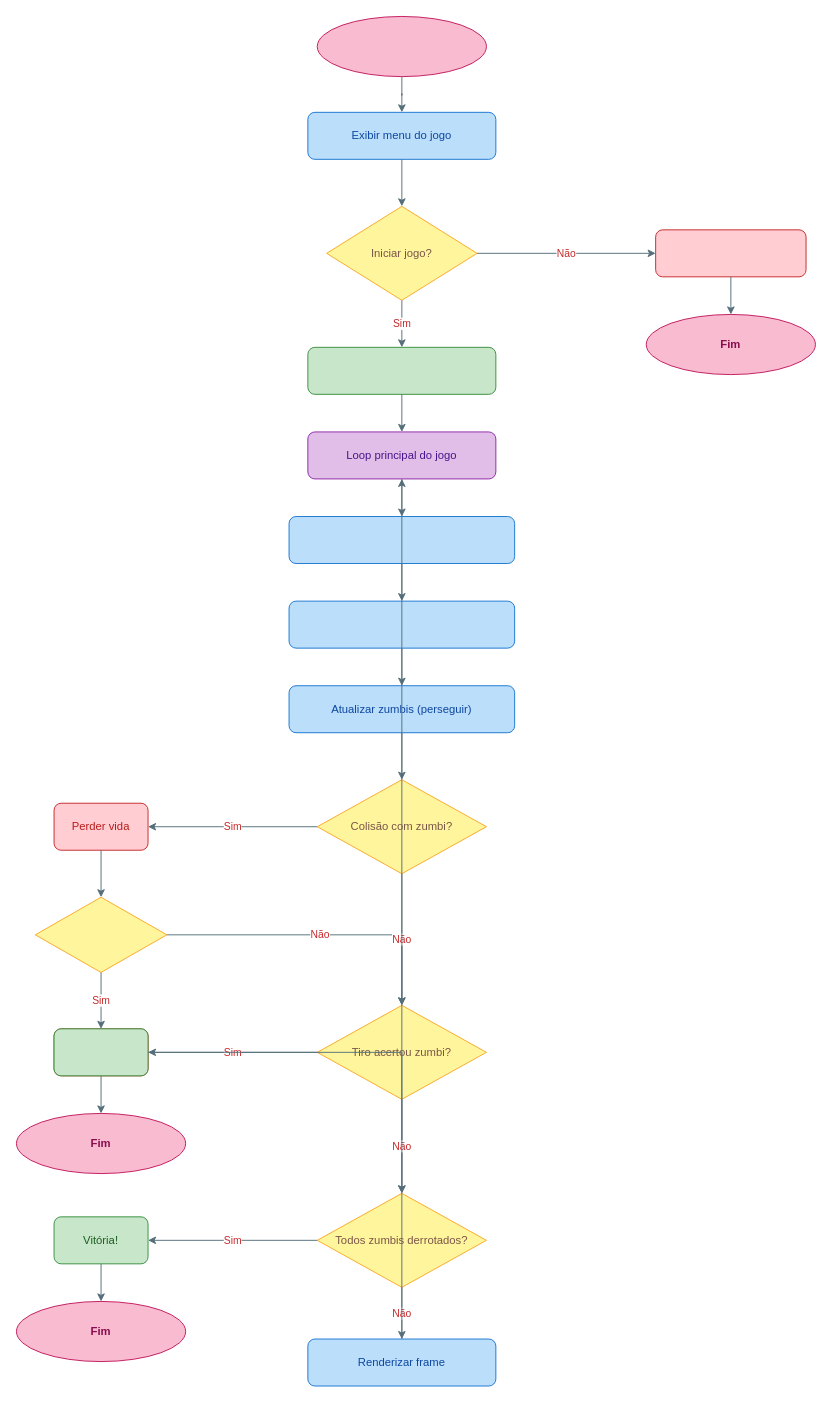
The diagram is 832 pixels wide and 1402 high, and some of its shapes have lost their labels. The shapes that lost their labels are listed below. From the top down, each one's box as (x1, y1, x2, y2) in pixels, then its label:
(316, 16, 486, 77): Início
(655, 229, 806, 277): Encerrar
(307, 346, 496, 394): Spawn do jogador e zumbis
(288, 516, 515, 564): Ler entrada do jogador
(288, 600, 515, 648): Atualizar posição do jogador
(34, 896, 167, 972): Vida <= 0?
(53, 1028, 148, 1076): Remover zumbi + pontuação
